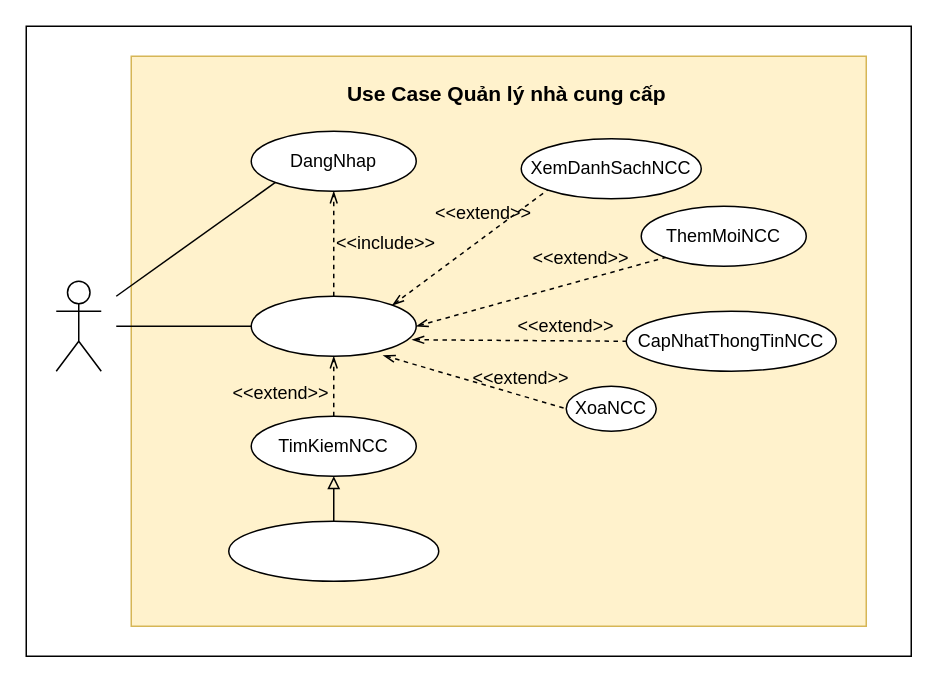
Some shapes in this 938 by 683 pixel diagram are drawn without their labels. Each missing label, with the box of its shape:
Admin: (55, 280, 101, 371)
QuanLyNCC: (250, 295, 416, 356)
TimKiemTheoTenNCC: (227, 520, 439, 581)
